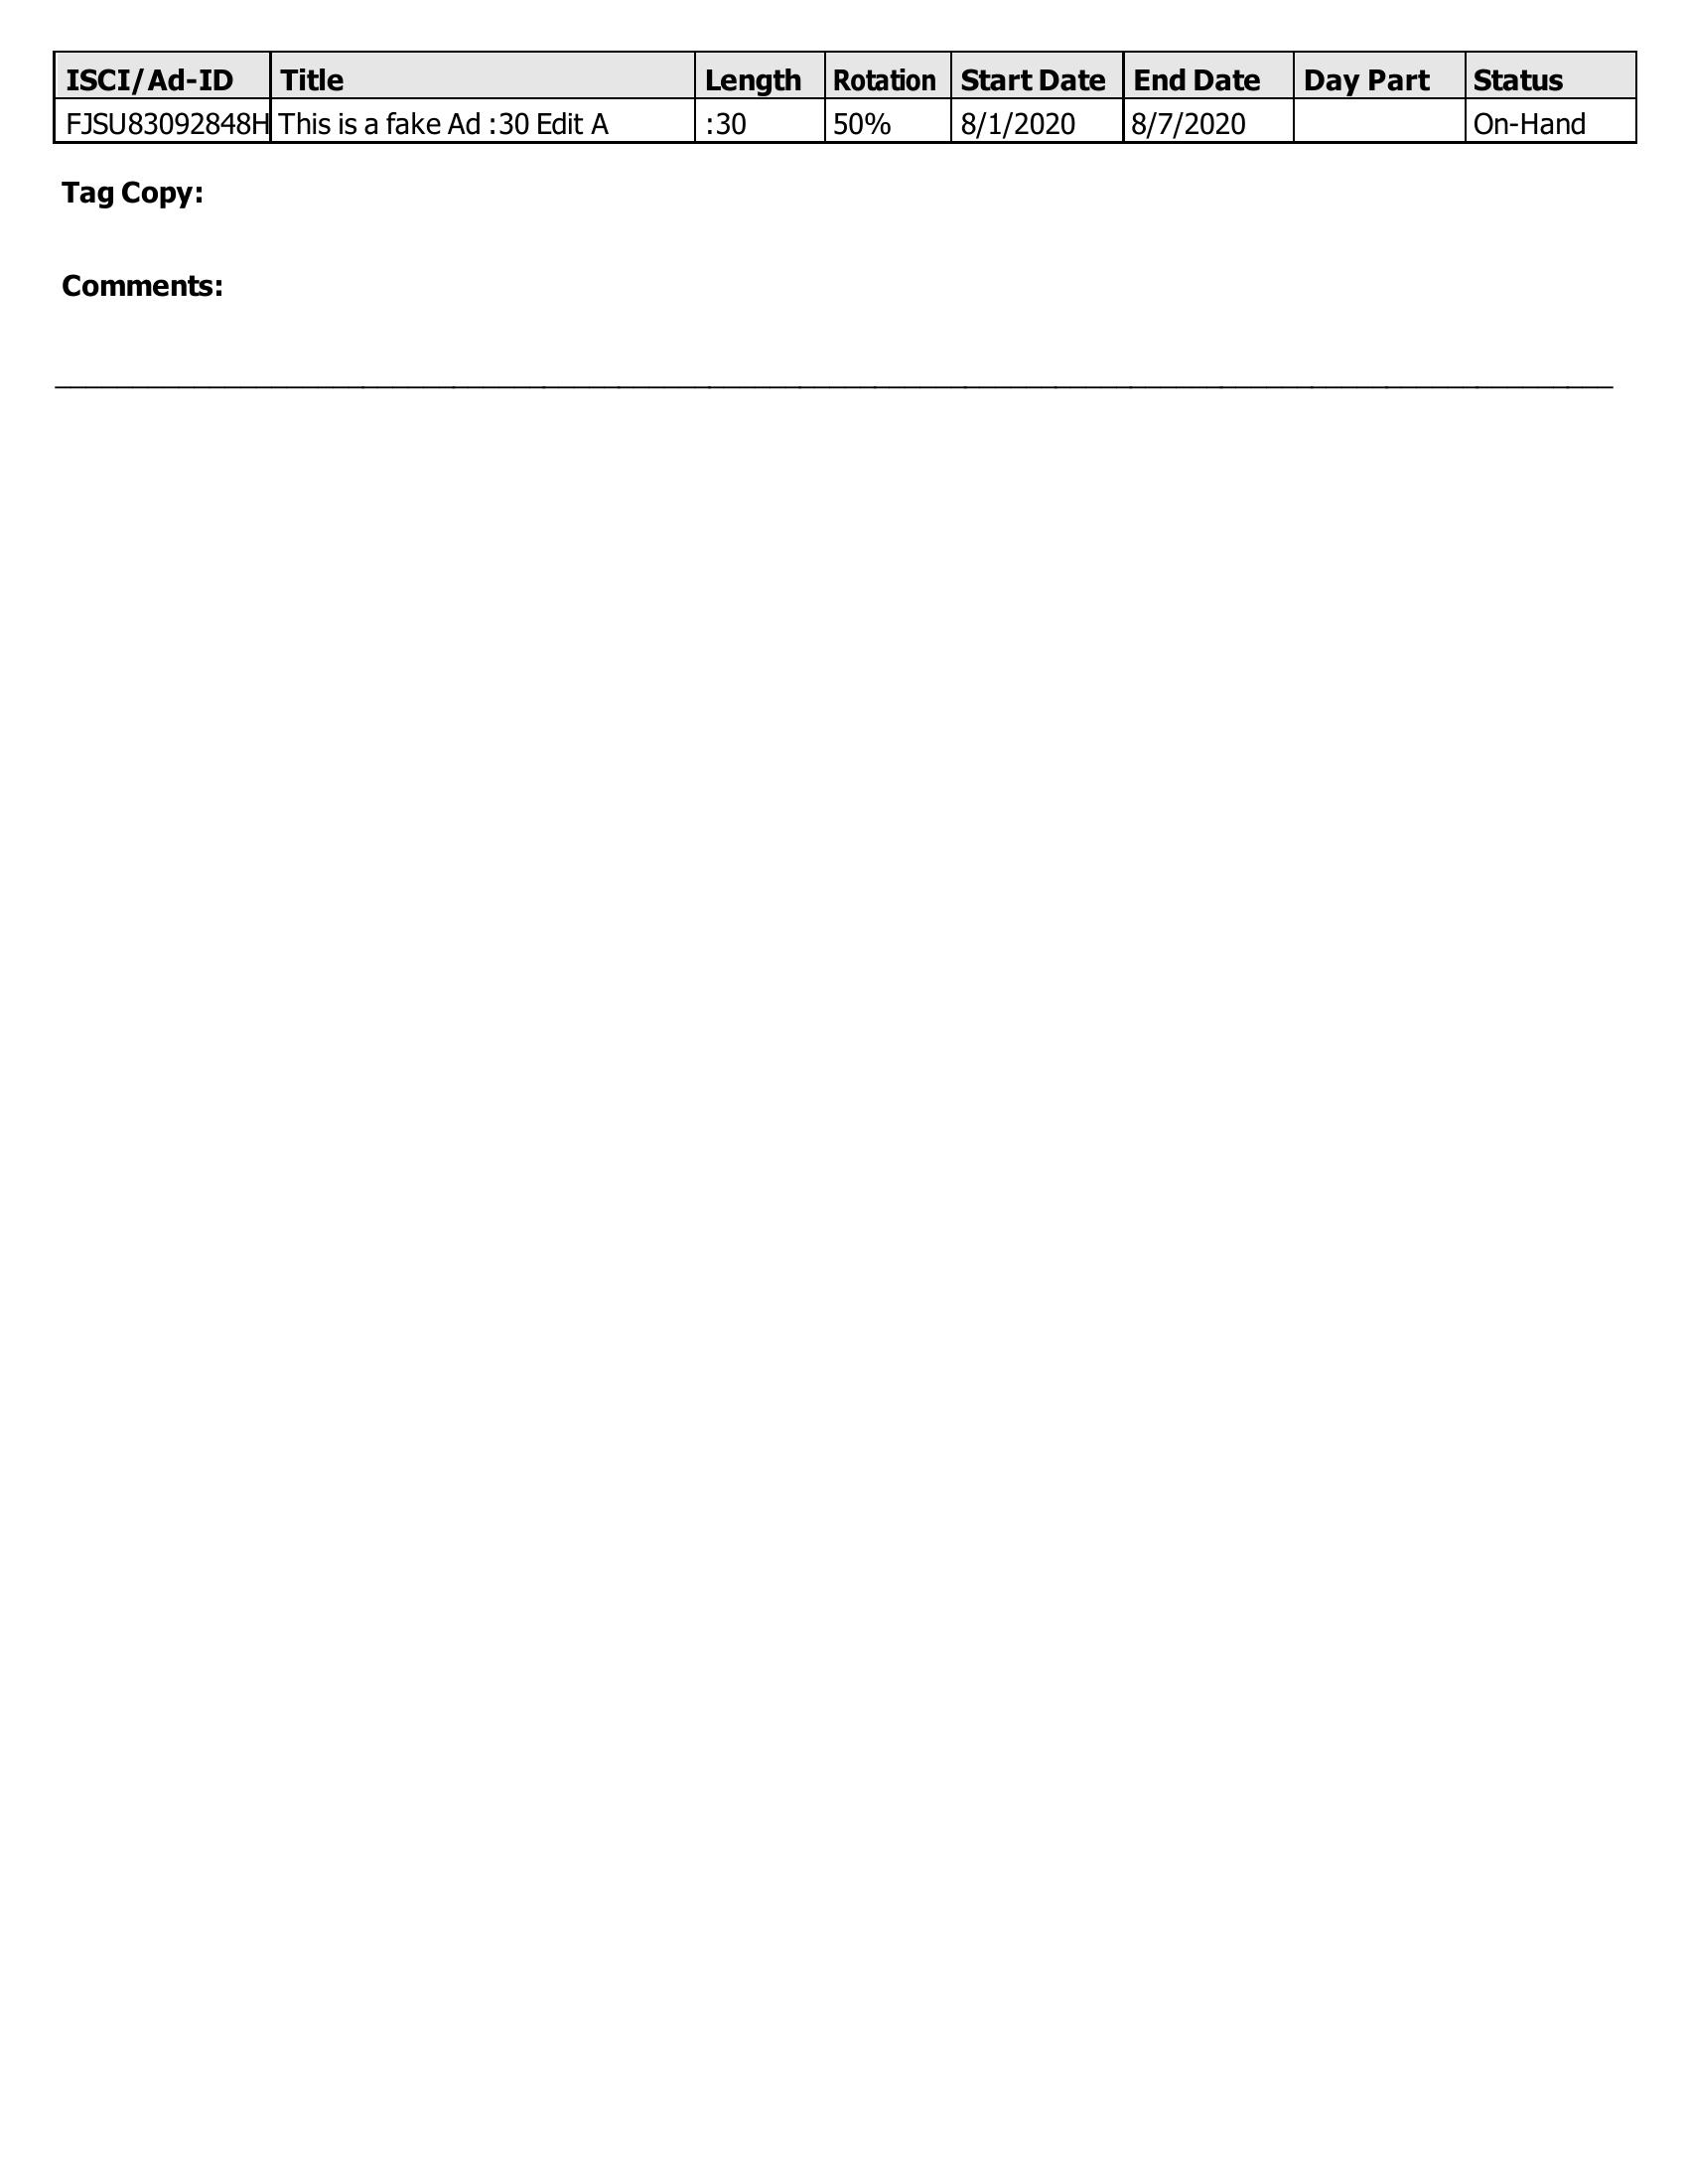table: (27, 23, 1668, 163)
